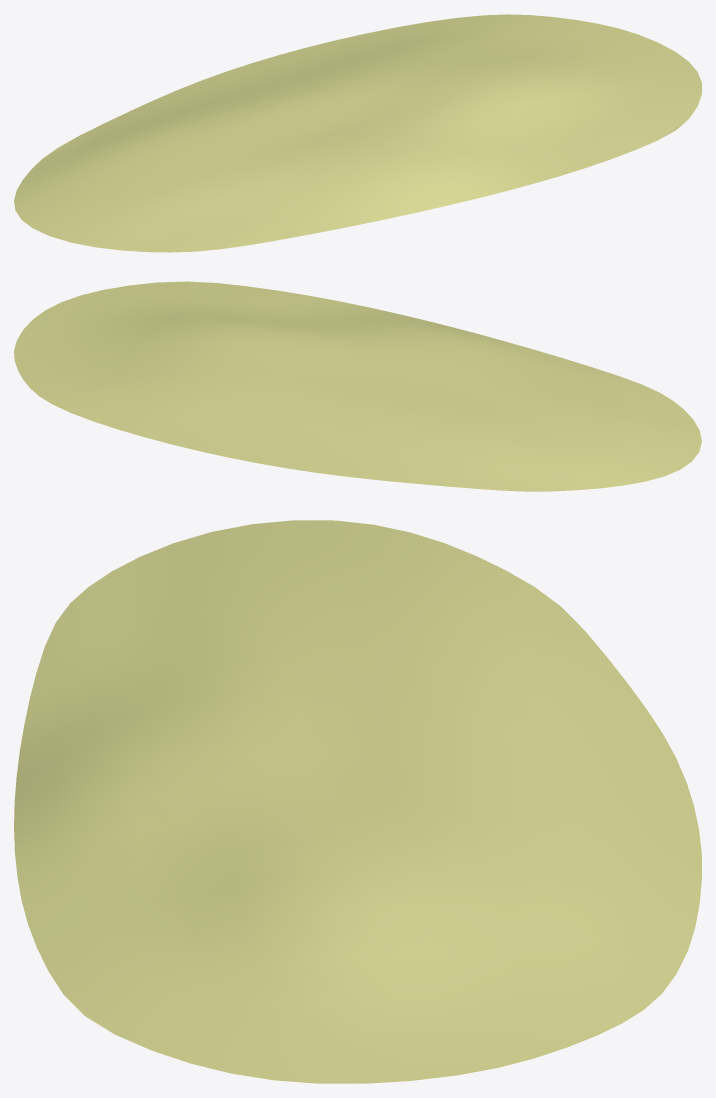
File: beach.glb
The picture shows the model from 3 angles, top to bottom: view 1: azimuth 30°, elevation 25°; view 2: azimuth 150°, elevation 25°; view 3: azimuth 270°, elevation 25°; orthographic projection. The views are drawn at different scales.
Parts seen in each view (by area): view 1: Beach.001; view 2: Beach.001; view 3: Beach.001.
Boxes of the visible parts, box(x1,y1,x2,y2) form: Beach.001: box(14, 14, 701, 252); Beach.001: box(14, 282, 701, 491); Beach.001: box(14, 520, 701, 1083).
Size of the model in its own units: 90.86 by 3.25 by 46.87.
